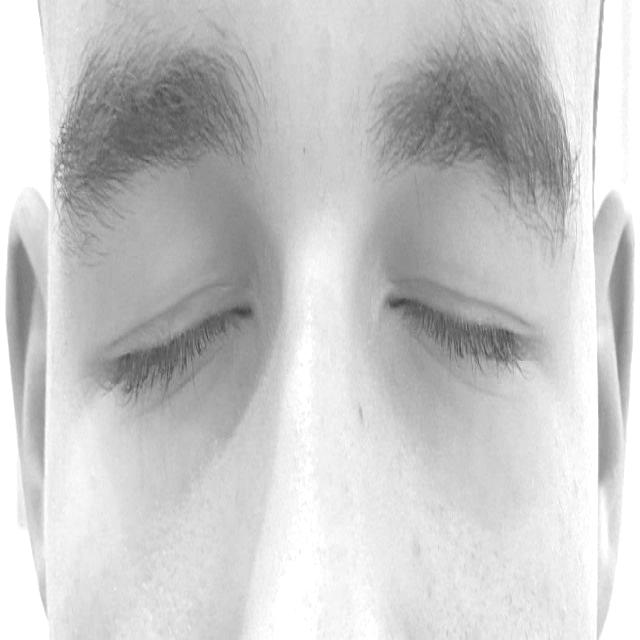real: (65, 178, 565, 464)
